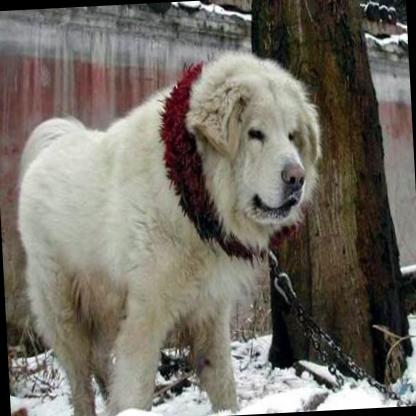Tibetan_mastiff: (7, 47, 332, 416)
